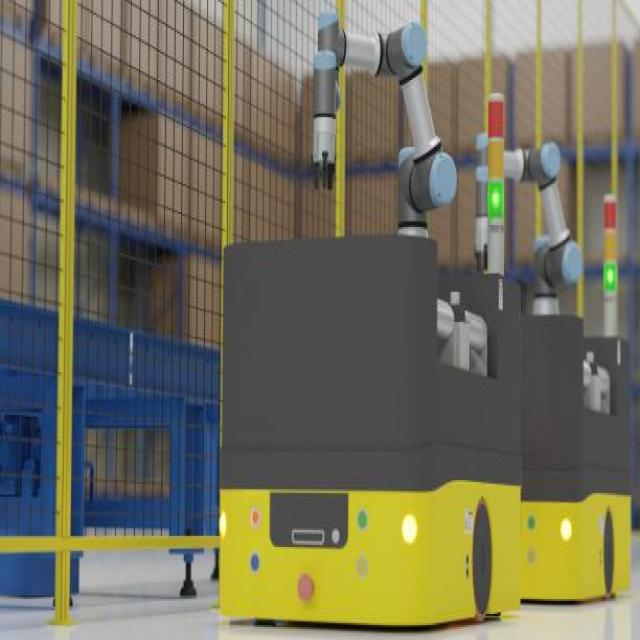Robotic-arm: (312, 10, 458, 238)
